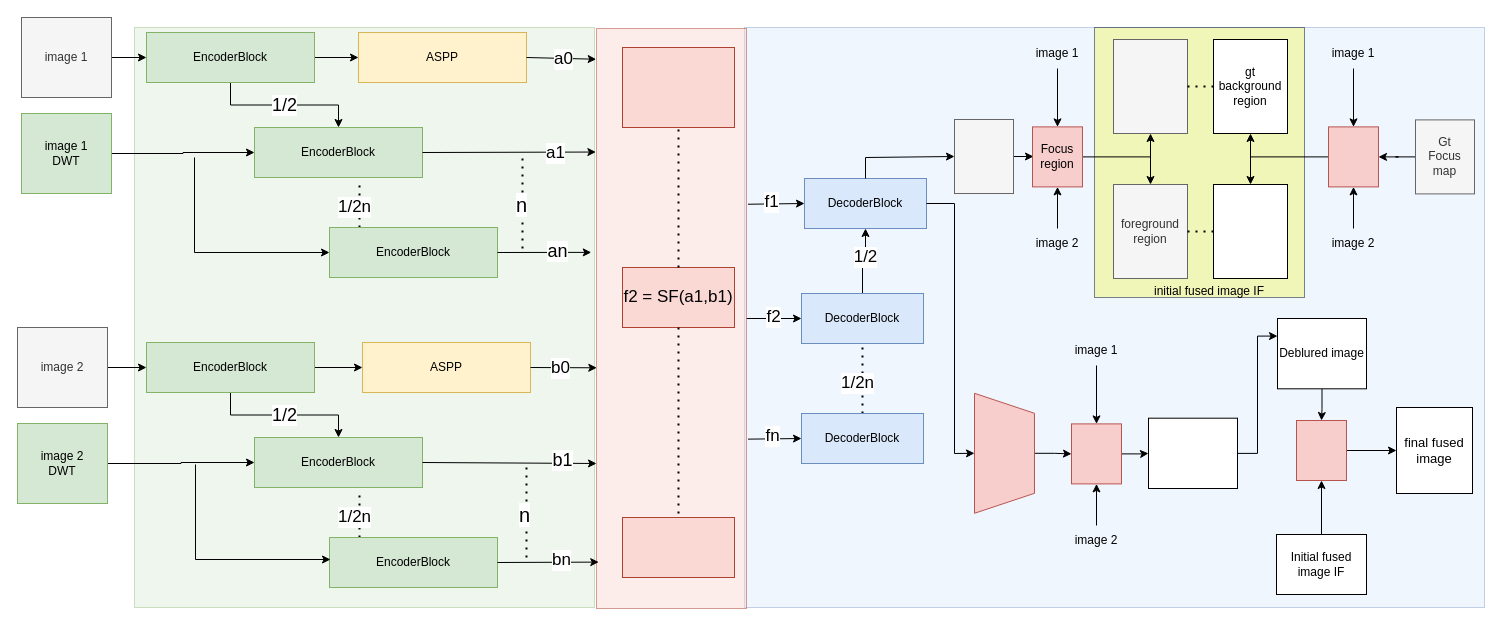
Some shapes in this 1502 by 626 pixel diagram are drawn without their labels. The box of each missing label's shape, as (x1, y1, x2, y2) in pixels:
avg pool MLP: (974, 392, 1034, 513)
background region: (1112, 38, 1188, 134)
binary class token: (1070, 423, 1122, 484)
f1 = SF(a0,b0): (622, 46, 734, 128)
fn = SF(an,bn): (622, 516, 734, 578)
Focus map: (954, 118, 1014, 194)
Fusion: (1296, 420, 1346, 480)
gt Focus region: (1328, 126, 1378, 187)
gt foreground region: (1212, 184, 1288, 278)
pretrained debluring module: (1148, 417, 1238, 488)
